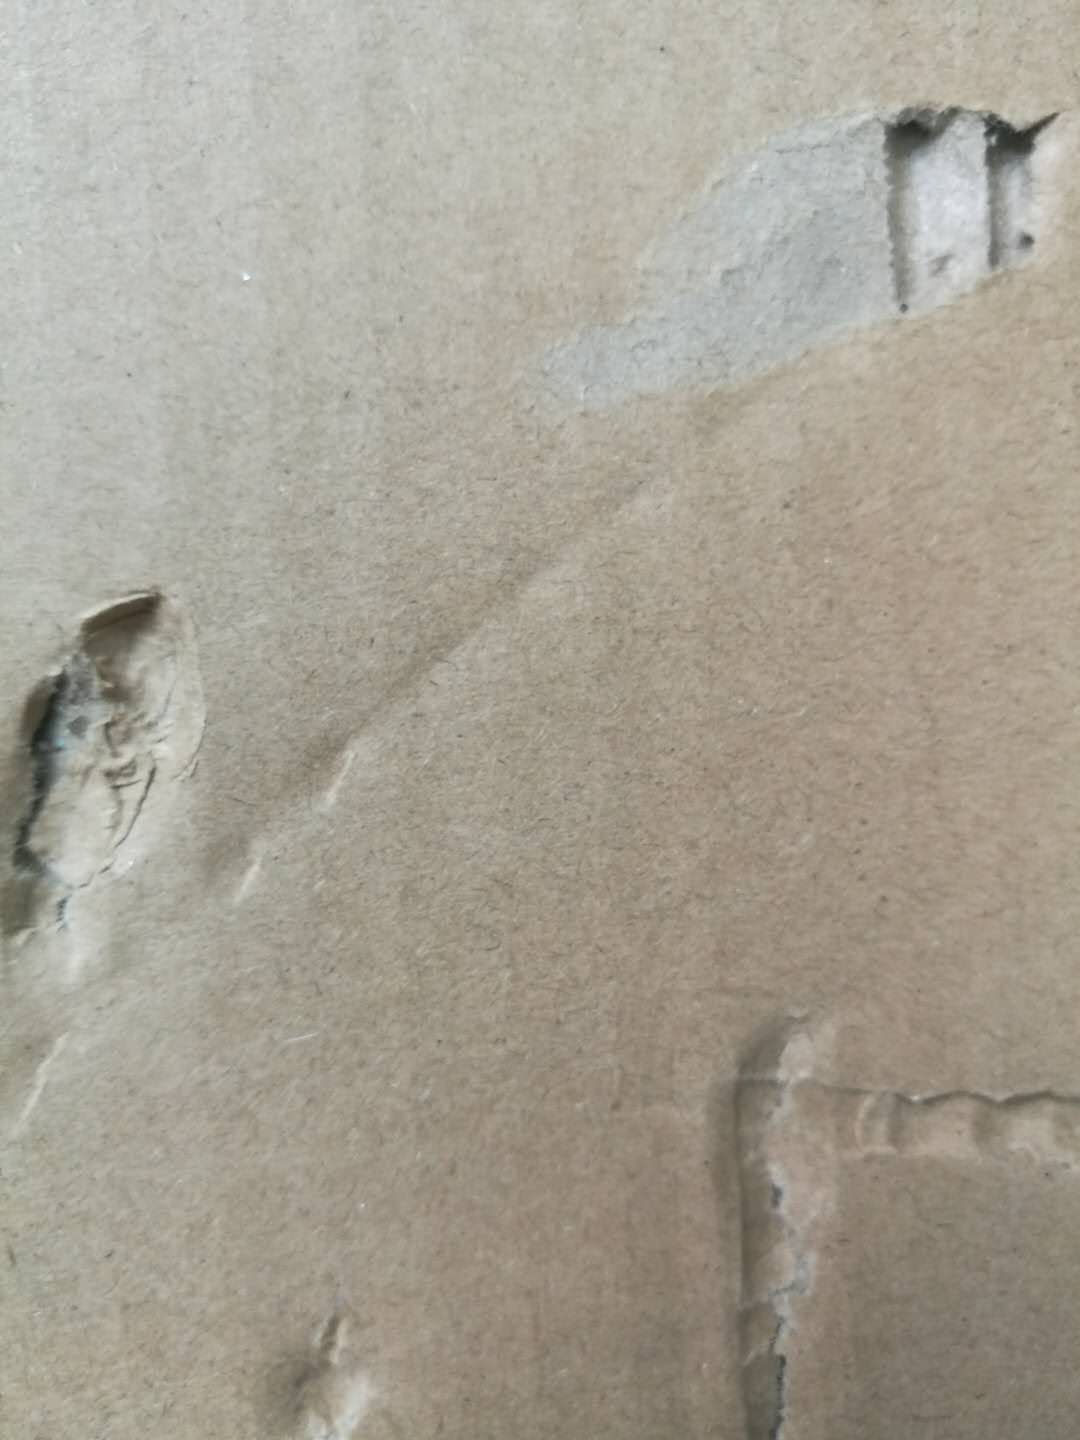defect: (2, 324, 883, 1147), (488, 75, 1080, 425), (657, 979, 1080, 1434), (1, 554, 246, 990), (245, 1298, 419, 1440)
